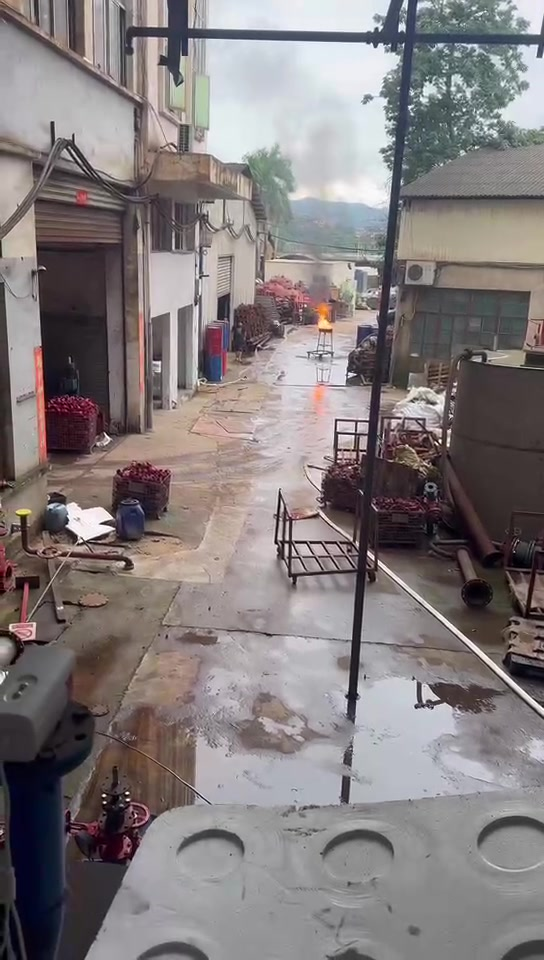fire: (315, 305, 331, 329)
